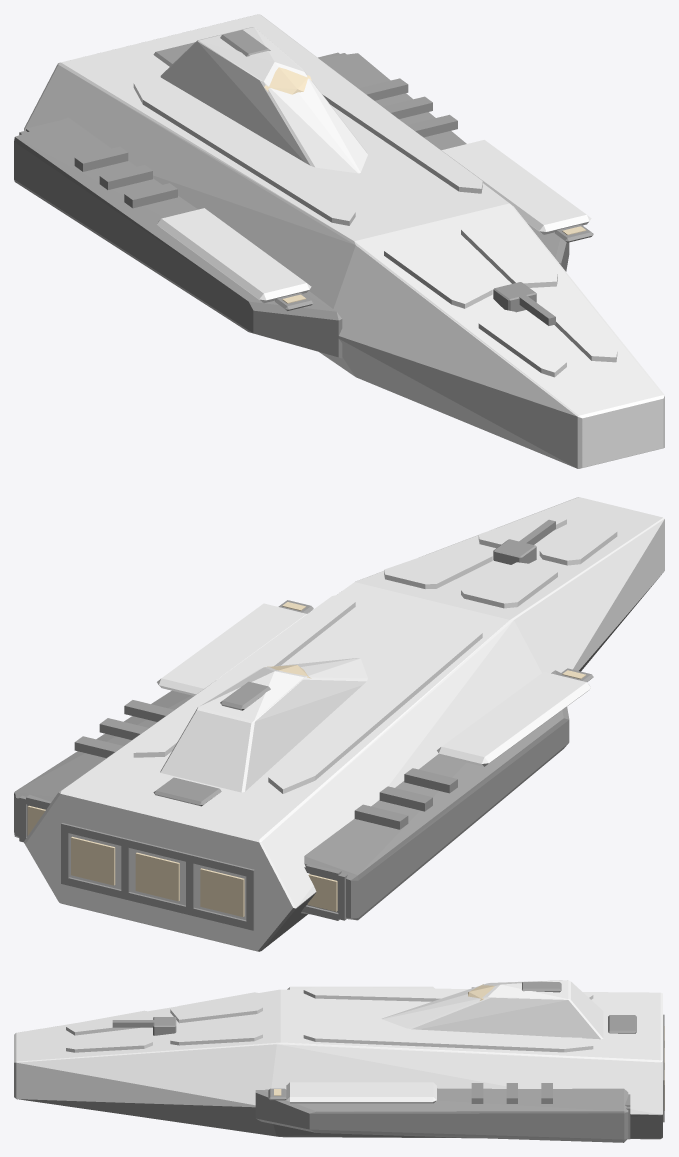
Rendered from Medium.glb.
3 renders of one model, top to bottom at view 1: azimuth 30°, elevation 25°; view 2: azimuth 150°, elevation 25°; view 3: azimuth 270°, elevation 25°, orthographic. The views are drawn at different scales.
Parts seen in each view (by area): view 1: body, body.010, body.001, Aft shoulder armor -1, Pod armor -1, Aft shoulder armor 1, Pod armor 1, Foredeck armor -1 1, Foredeck armor 1 1, body.008, Foredeck armor -1 0, Foredeck armor 1 0 (+9 smaller); view 2: body, body.010, body.001, Aft shoulder armor -1, Pod armor -1, Aft shoulder armor 1, Pod armor 1, body.008, Foredeck armor 1 1, Foredeck armor -1 1, Foredeck armor -1 0, body.005 (+15 smaller); view 3: body, body.008, body.001, Aft shoulder armor 1, Pod armor 1, Aft shoulder armor -1, Foredeck armor 1 1, Foredeck armor -1 1, Foredeck armor 1 0, Foredeck armor -1 0, Aft service hatch, body.003 (+4 smaller).
Boxes of the visible parts, bbox=[...] form: body: bbox=[24, 14, 664, 468]; body.010: bbox=[14, 117, 342, 358]; body.001: bbox=[160, 27, 367, 173]; Aft shoulder armor -1: bbox=[133, 83, 355, 225]; Pod armor -1: bbox=[157, 208, 311, 302]; Aft shoulder armor 1: bbox=[280, 46, 482, 193]; Pod armor 1: bbox=[441, 140, 591, 234]; Foredeck armor -1 1: bbox=[384, 233, 492, 308]; Foredeck armor 1 1: bbox=[461, 214, 557, 287]; body.008: bbox=[318, 53, 569, 271]; Foredeck armor -1 0: bbox=[478, 309, 566, 377]; Foredeck armor 1 0: bbox=[540, 294, 617, 362]; body: bbox=[24, 497, 664, 951]; body.010: bbox=[301, 670, 569, 920]; body.001: bbox=[160, 658, 367, 792]; Aft shoulder armor -1: bbox=[268, 624, 482, 793]; Pod armor -1: bbox=[437, 672, 591, 766]; Aft shoulder armor 1: bbox=[133, 592, 355, 757]; Pod armor 1: bbox=[157, 603, 306, 695]; body.008: bbox=[14, 690, 193, 837]; Foredeck armor 1 1: bbox=[384, 545, 492, 589]; Foredeck armor -1 1: bbox=[461, 562, 557, 608]; Foredeck armor -1 0: bbox=[539, 525, 617, 565]; body.005: bbox=[200, 868, 244, 916]; body: bbox=[14, 989, 662, 1139]; body.008: bbox=[255, 1088, 628, 1142]; body.001: bbox=[382, 980, 603, 1039]; Aft shoulder armor 1: bbox=[303, 1030, 593, 1052]; Pod armor 1: bbox=[286, 1082, 436, 1103]; Aft shoulder armor -1: bbox=[303, 987, 593, 1001]; Foredeck armor 1 1: bbox=[170, 1019, 262, 1045]; Foredeck armor -1 1: bbox=[170, 992, 262, 1023]; Foredeck armor 1 0: bbox=[66, 1032, 152, 1052]; Foredeck armor -1 0: bbox=[66, 1010, 152, 1035]; Aft service hatch: bbox=[608, 1015, 636, 1033]; body.003: bbox=[153, 1017, 176, 1035].
Size of the model in its own units: 47.95 by 24 by 112.
